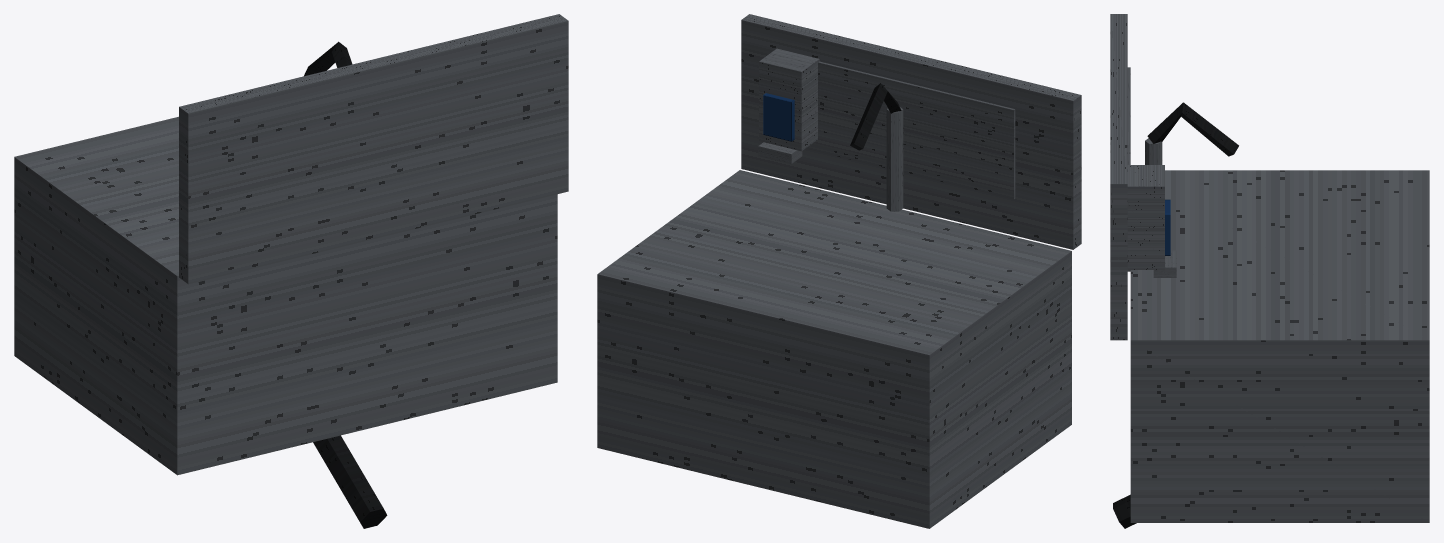
The model's file is scrub_sink_habitation_worn.glb.
3 renders of one model, left to right at view 1: azimuth 30°, elevation 25°; view 2: azimuth 150°, elevation 25°; view 3: azimuth 270°, elevation 25°, orthographic. The views are drawn at different scales.
Visible parts, largest first — view 1: scrub_sink_habitation_worn; view 2: scrub_sink_habitation_worn; view 3: scrub_sink_habitation_worn.
Part boxes in pixels (x1=…): scrub_sink_habitation_worn: x1=14, y1=14, x2=568, y2=528; scrub_sink_habitation_worn: x1=597, y1=14, x2=1081, y2=528; scrub_sink_habitation_worn: x1=1110, y1=14, x2=1429, y2=528.
Size of the model in its own units: 0.7 by 0.8191 by 0.555.
4 materials, 4 textured.
